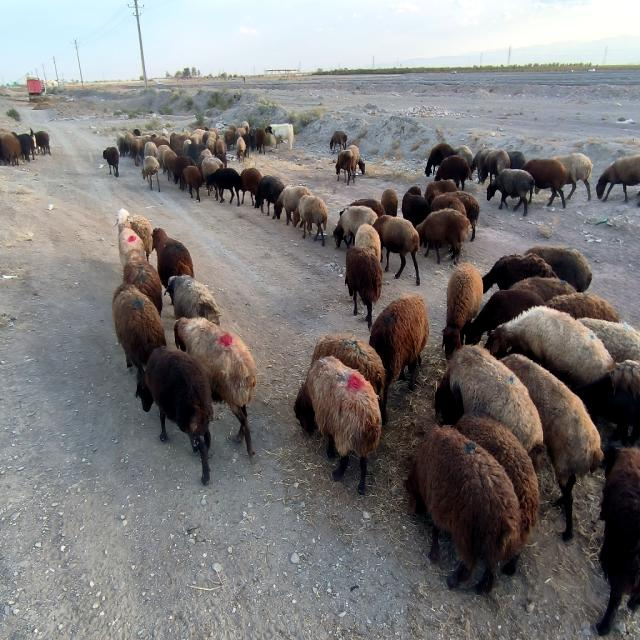sheep: (406, 427, 521, 591), (503, 353, 604, 539), (435, 347, 545, 469), (294, 357, 381, 495), (174, 318, 256, 458), (485, 307, 614, 386), (145, 347, 214, 484), (369, 295, 429, 424), (112, 282, 166, 412), (311, 333, 385, 402), (465, 290, 545, 345), (442, 263, 482, 359), (372, 215, 420, 284), (416, 208, 471, 265), (526, 245, 592, 292), (345, 247, 381, 329), (482, 253, 556, 292), (579, 317, 640, 362), (166, 275, 220, 324), (152, 228, 193, 287), (486, 168, 535, 216), (522, 158, 566, 208), (122, 260, 162, 314), (546, 293, 619, 322), (596, 155, 640, 202), (334, 207, 378, 248), (554, 153, 592, 200), (116, 208, 145, 266), (511, 277, 576, 302), (450, 190, 480, 242), (299, 195, 328, 246), (206, 168, 241, 207), (276, 187, 312, 224), (435, 155, 472, 190), (255, 175, 285, 218), (401, 187, 430, 227), (480, 148, 510, 183), (425, 143, 455, 177), (129, 215, 152, 258), (355, 225, 381, 259), (424, 180, 458, 205), (431, 193, 466, 217), (240, 168, 262, 205), (182, 165, 204, 202), (471, 148, 494, 183), (0, 133, 21, 165), (336, 150, 355, 185), (144, 155, 160, 192), (174, 155, 195, 183), (380, 188, 399, 217), (16, 133, 35, 161), (102, 147, 119, 178), (162, 148, 178, 180), (349, 145, 365, 175), (454, 145, 474, 167), (201, 158, 220, 180), (130, 137, 144, 166), (34, 130, 50, 155), (330, 130, 348, 152), (508, 152, 526, 170), (116, 133, 129, 156), (255, 128, 266, 153), (236, 137, 246, 163), (144, 142, 158, 158), (125, 133, 135, 154), (215, 138, 226, 154)
